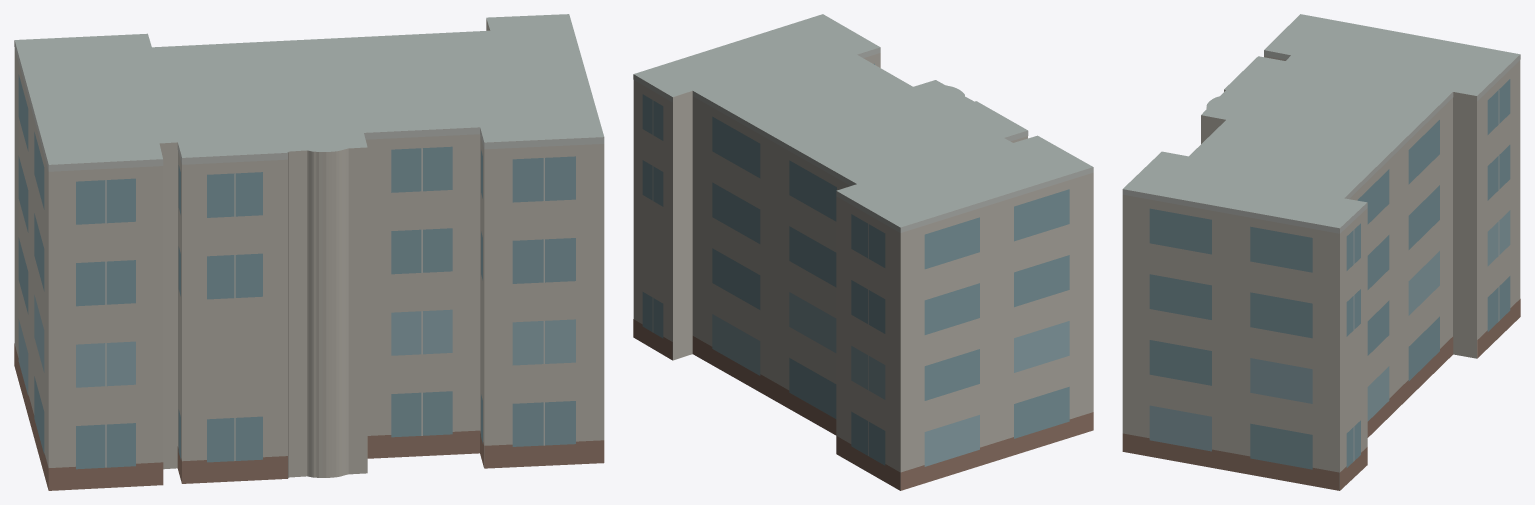
Rendered from survey-upis-32531916.glb.
The picture shows the model from 3 angles, left to right: view 1: azimuth 30°, elevation 25°; view 2: azimuth 150°, elevation 25°; view 3: azimuth 270°, elevation 25°; orthographic projection. The views are drawn at different scales.
Visible parts, largest first — view 1: survey-upis-32531916.tmp; view 2: survey-upis-32531916.tmp; view 3: survey-upis-32531916.tmp.
Boxes of the visible parts, <box> form: survey-upis-32531916.tmp: <box>14,14,604,490</box>; survey-upis-32531916.tmp: <box>633,14,1093,490</box>; survey-upis-32531916.tmp: <box>1122,14,1520,490</box>.
Size of the model in its own units: 20.31 by 11.6 by 15.94.
